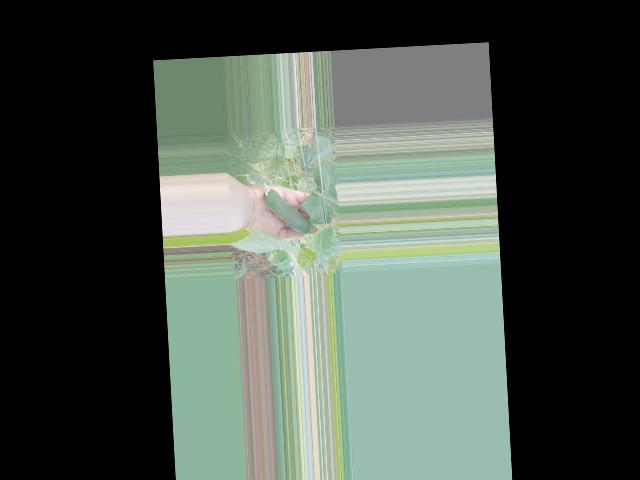cucumber: (262, 179, 311, 235)
